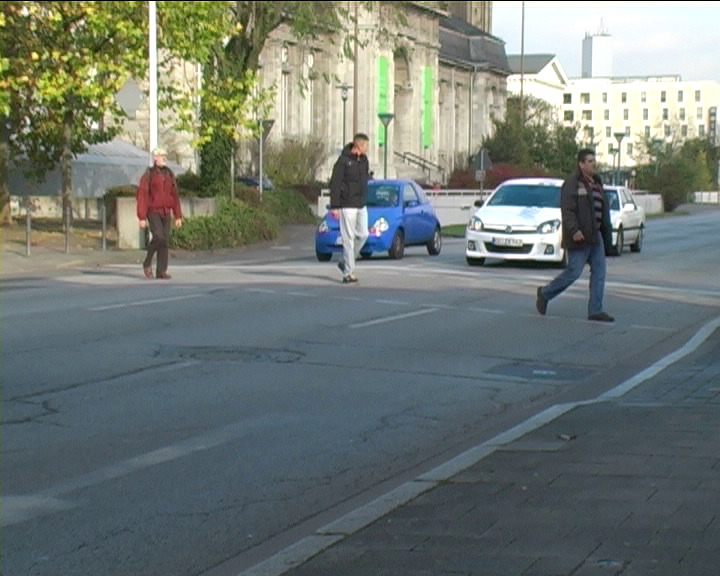deflection: (338, 133, 373, 198)
